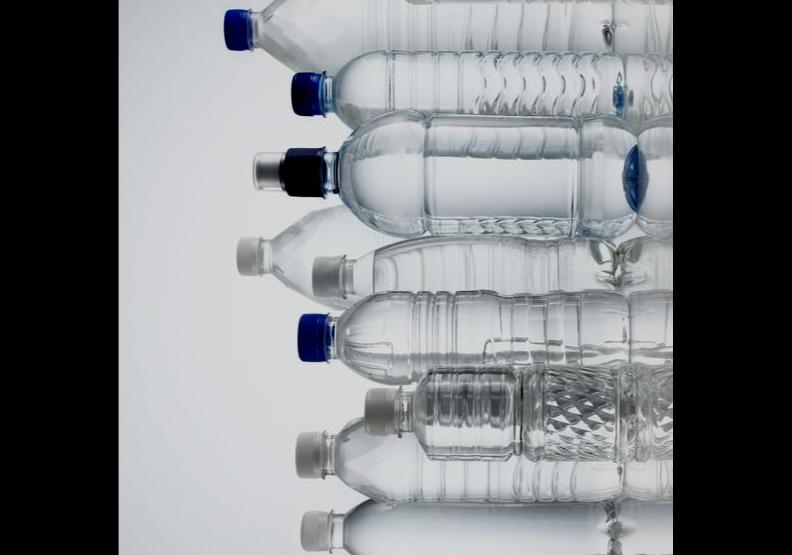bottle: (254, 106, 650, 241), (290, 284, 636, 382), (289, 412, 632, 506), (361, 366, 638, 462), (219, 0, 610, 65), (312, 228, 628, 308), (288, 48, 636, 115), (293, 498, 621, 555), (228, 212, 369, 296)
